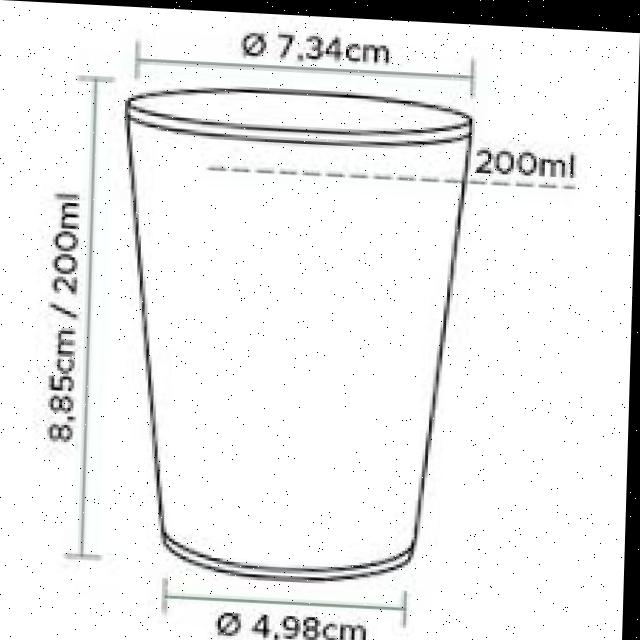cup: (102, 60, 494, 610)
